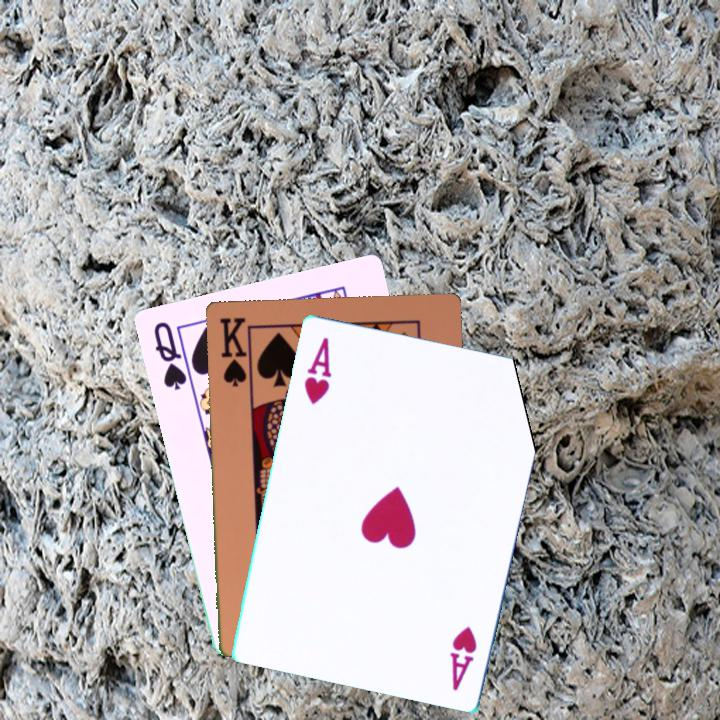Ah: (300, 333, 335, 407), (446, 622, 480, 693)
Ks: (216, 313, 249, 389)
Qs: (149, 318, 195, 393)
